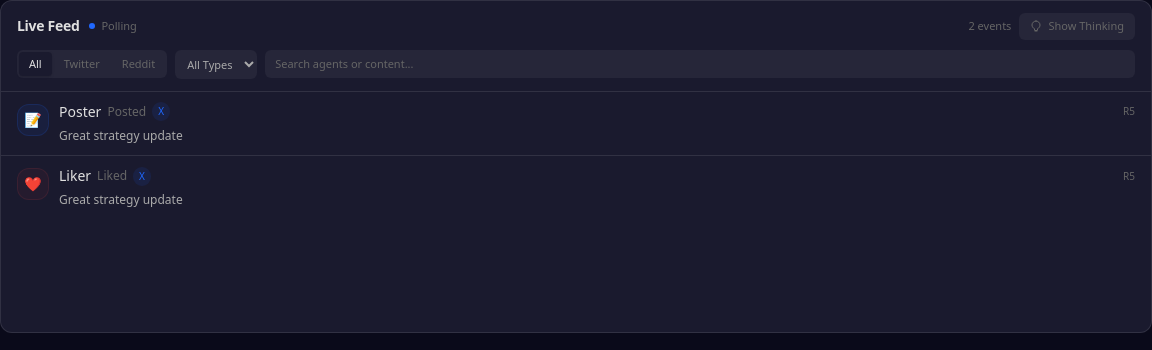
Test: LiveFeed › filters actions by type (posts)
The image size is (1152, 350).
Select "Posts" in the dropdown at (216, 64), box [175,50,257,78]
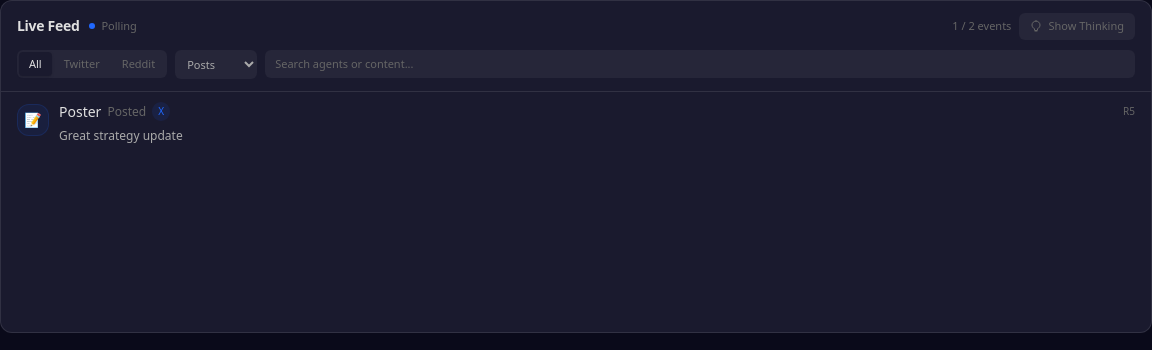
expect the text "Poster" is shown: met, box [59,102,101,122]
expect the text "Liker" is gone: met
